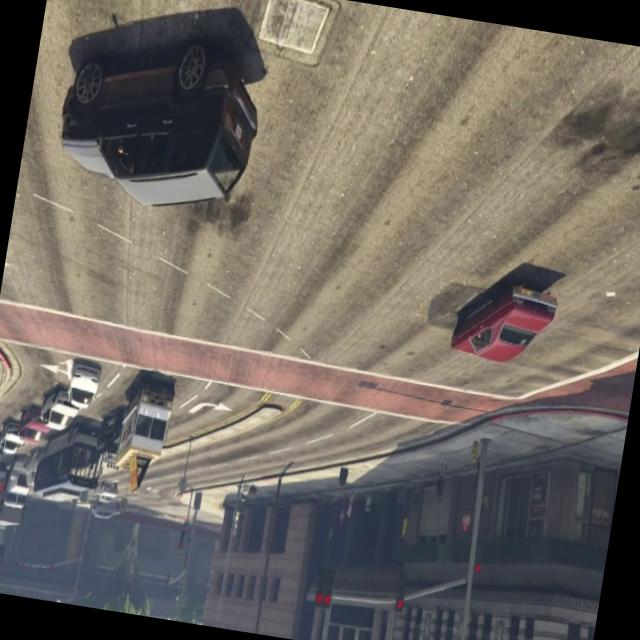Red-Signal: (460, 534, 500, 597), (380, 565, 420, 627), (312, 553, 346, 619)
